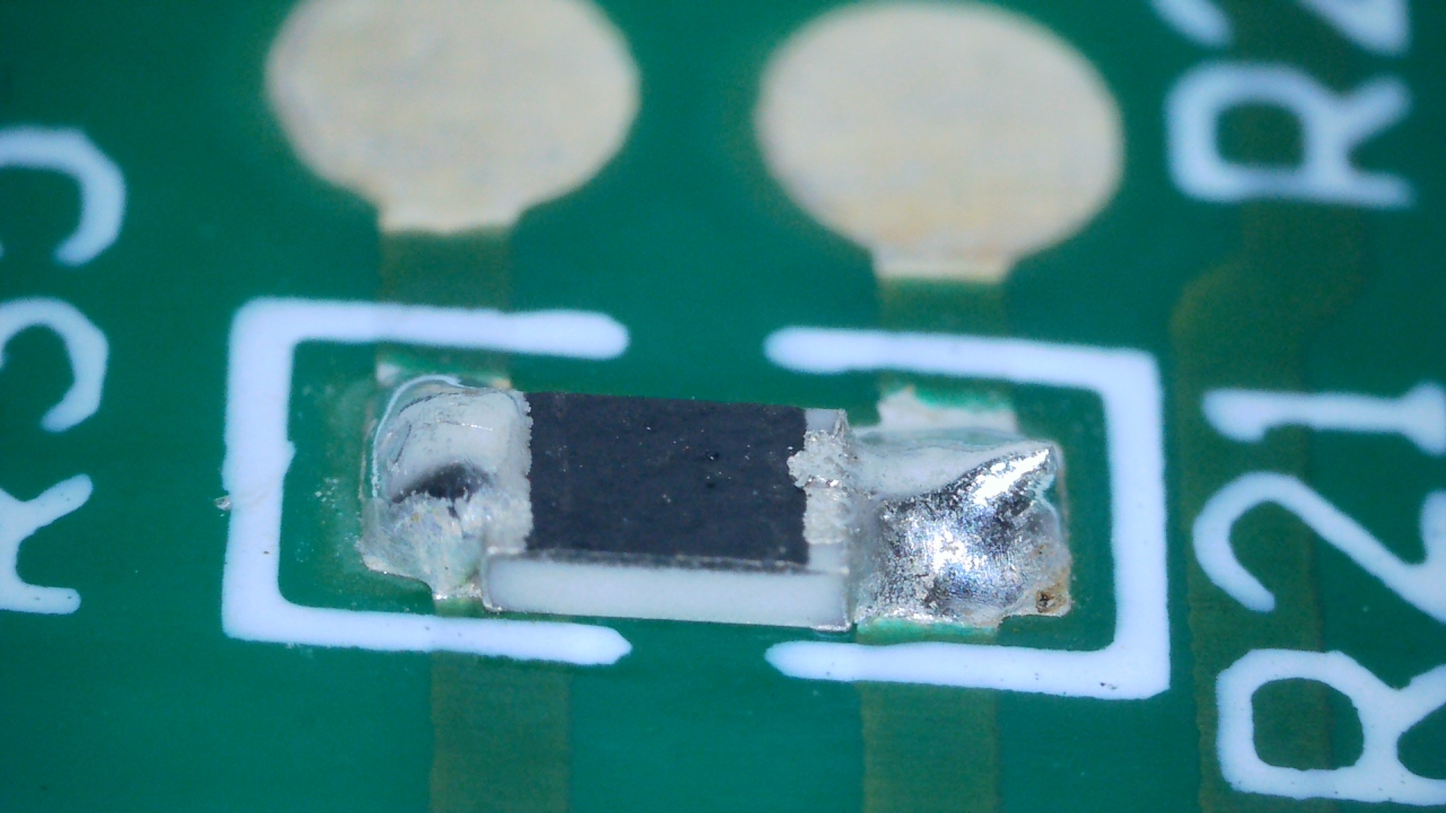NG: (809, 408, 1067, 624), (366, 379, 531, 602), (876, 441, 1056, 582)
